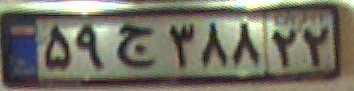character: (113, 20, 160, 74), (71, 24, 110, 74), (163, 18, 198, 73), (229, 18, 264, 70), (41, 23, 74, 77), (198, 18, 230, 71), (268, 25, 301, 72), (301, 21, 333, 69)
